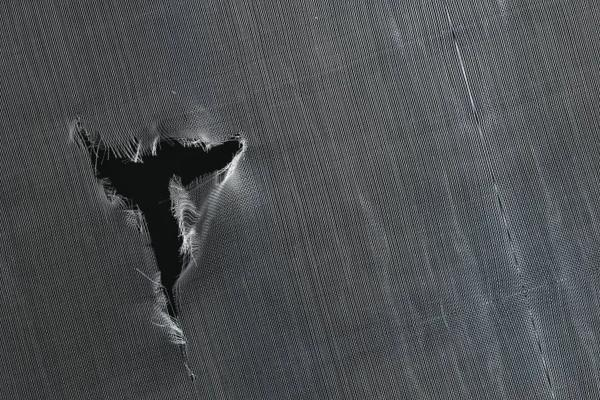hole: (67, 112, 250, 375)
